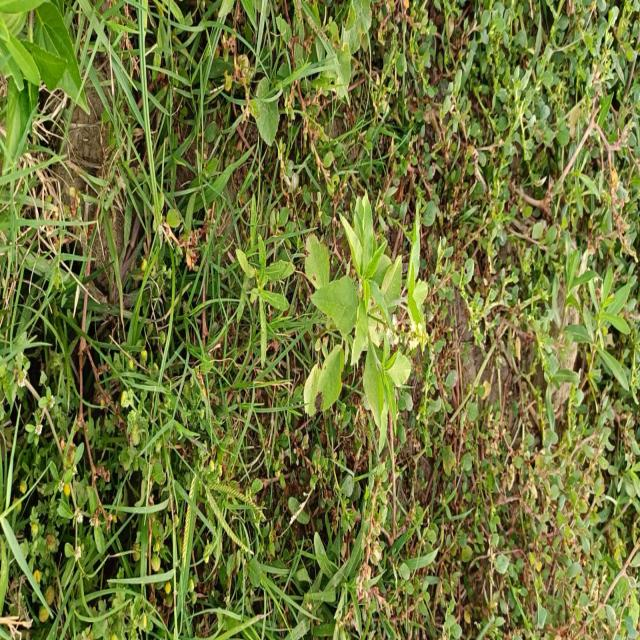plant: (304, 194, 411, 447), (405, 205, 428, 351)
